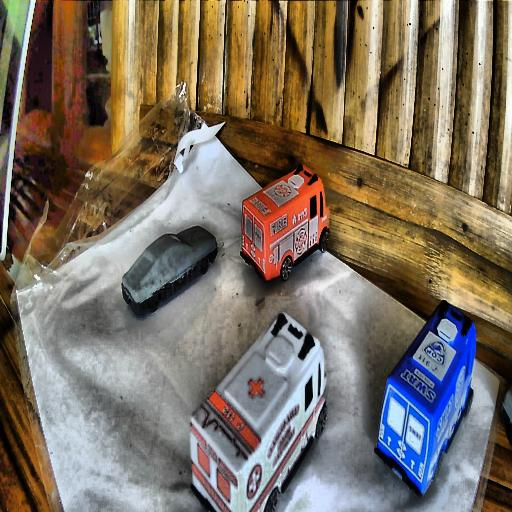ambulance: (192, 310, 322, 512)
fire_truck: (237, 161, 325, 283)
normal_car: (120, 224, 220, 317)
police car: (374, 299, 476, 498)
